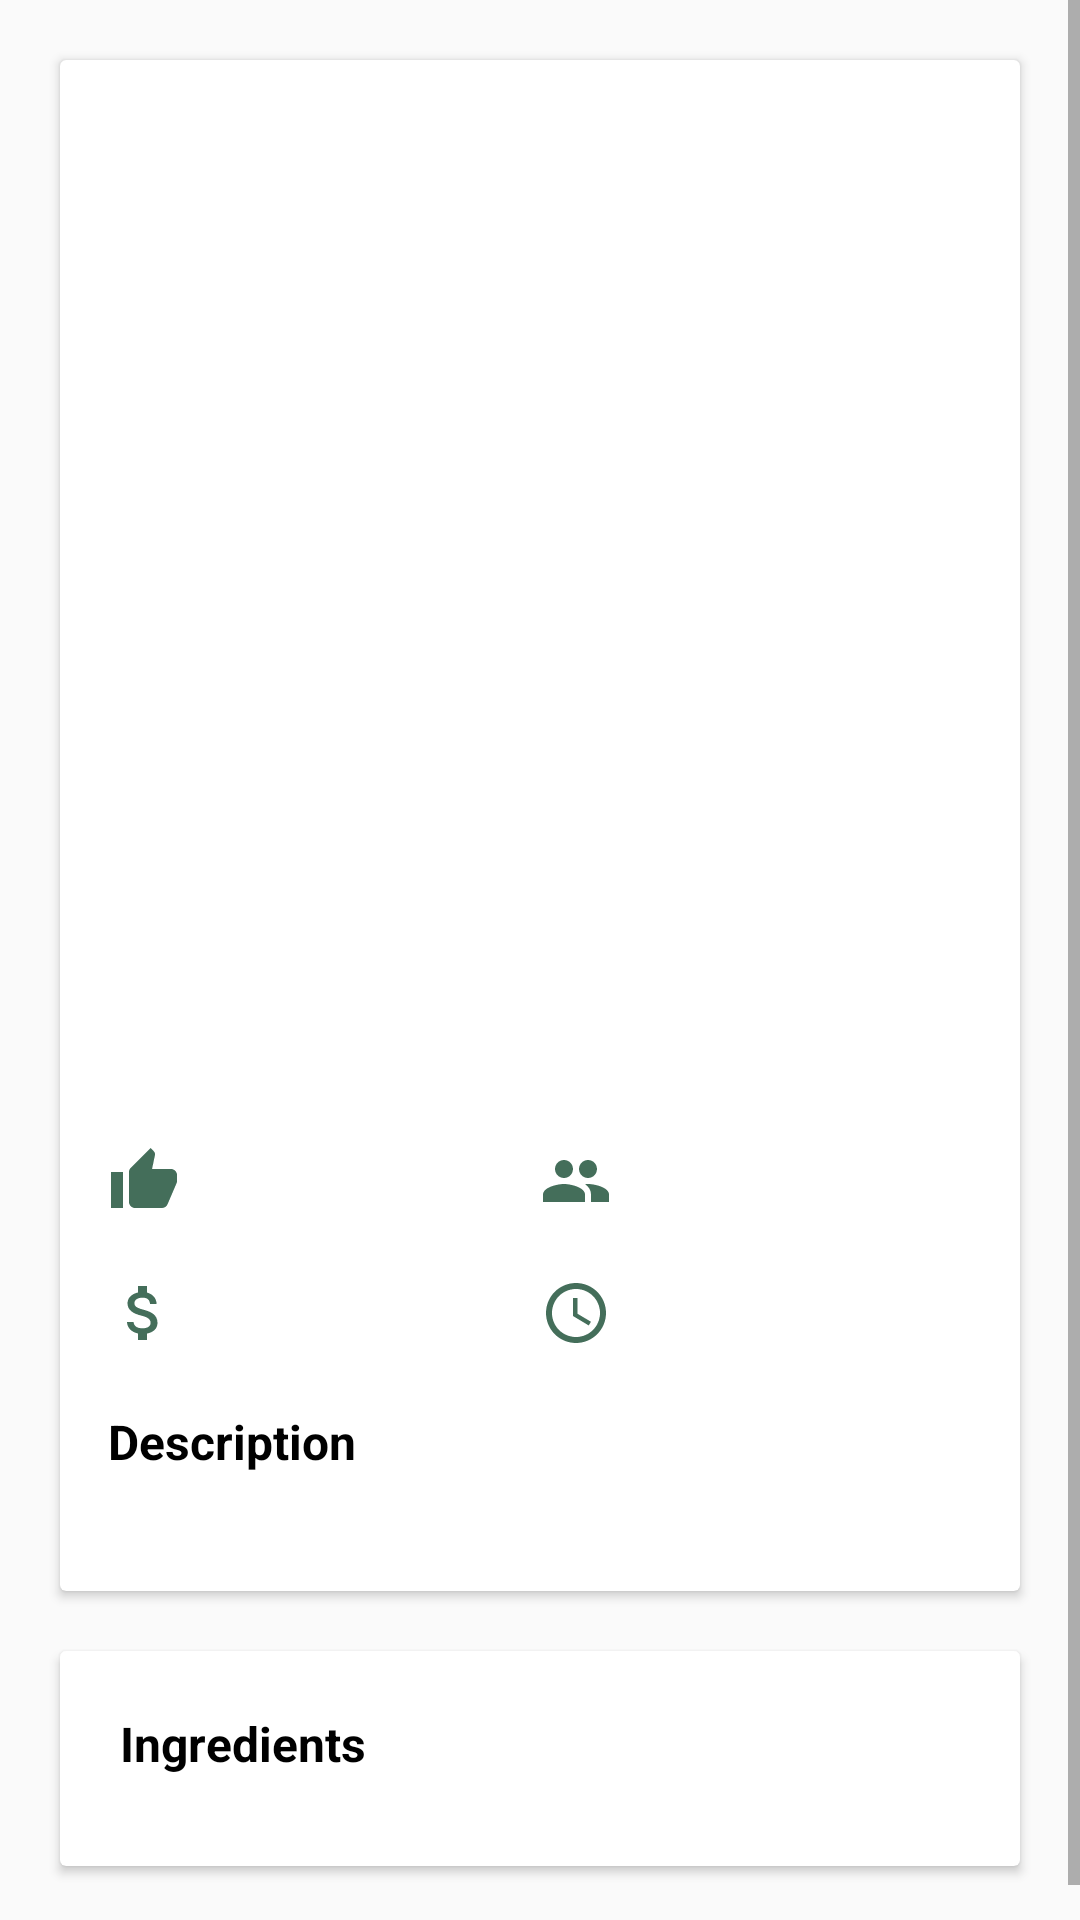

Point at icon controls on the screen. Image size 1080px×1920px, points as point (x, y).
amount: point (142, 1313)
serving: point (576, 1181)
thumbs up: point (144, 1178)
time: point (576, 1313)
